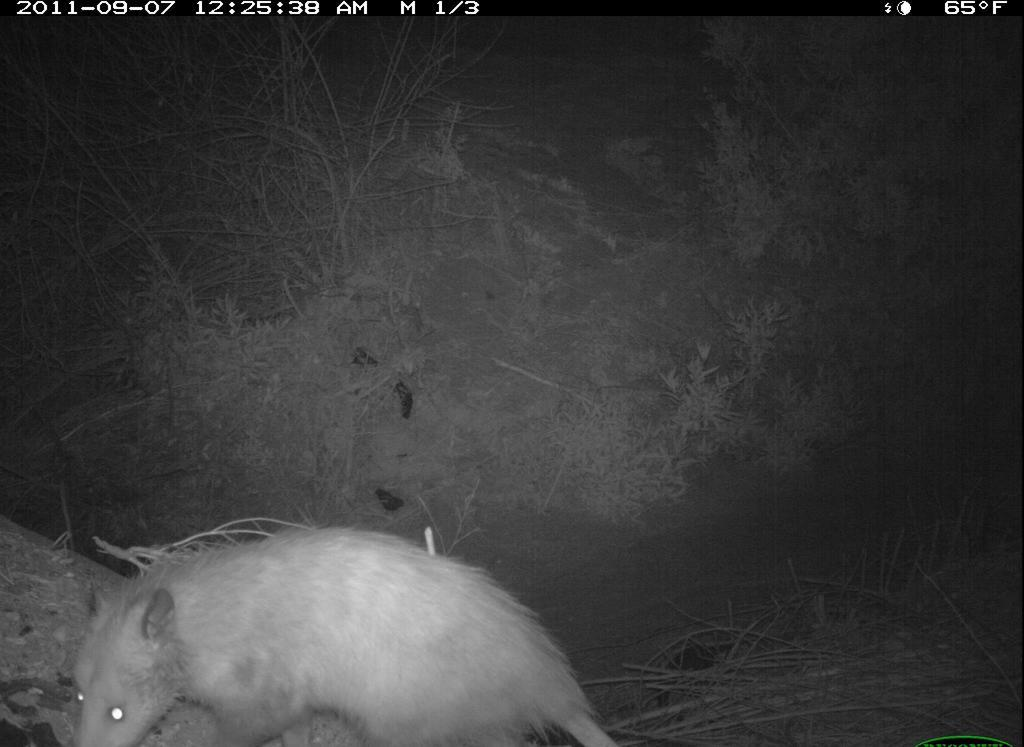opossum: (54, 510, 612, 747)
